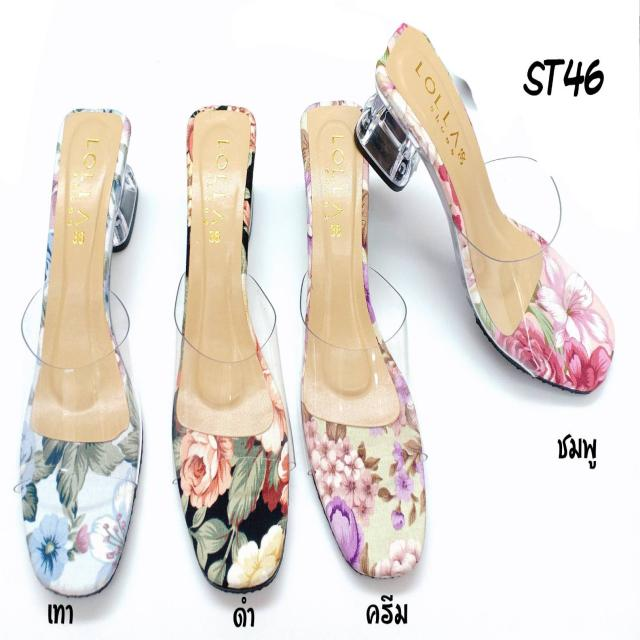black: (182, 101, 289, 596)
cream: (302, 100, 425, 579)
grey: (18, 108, 145, 585)
pink: (374, 21, 615, 395)
